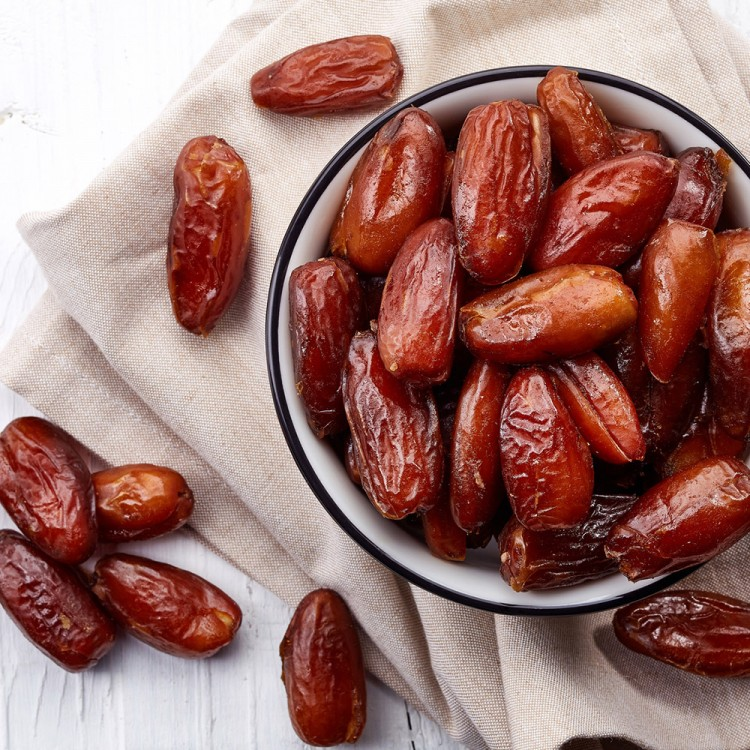hurmaa: (162, 125, 255, 349)
